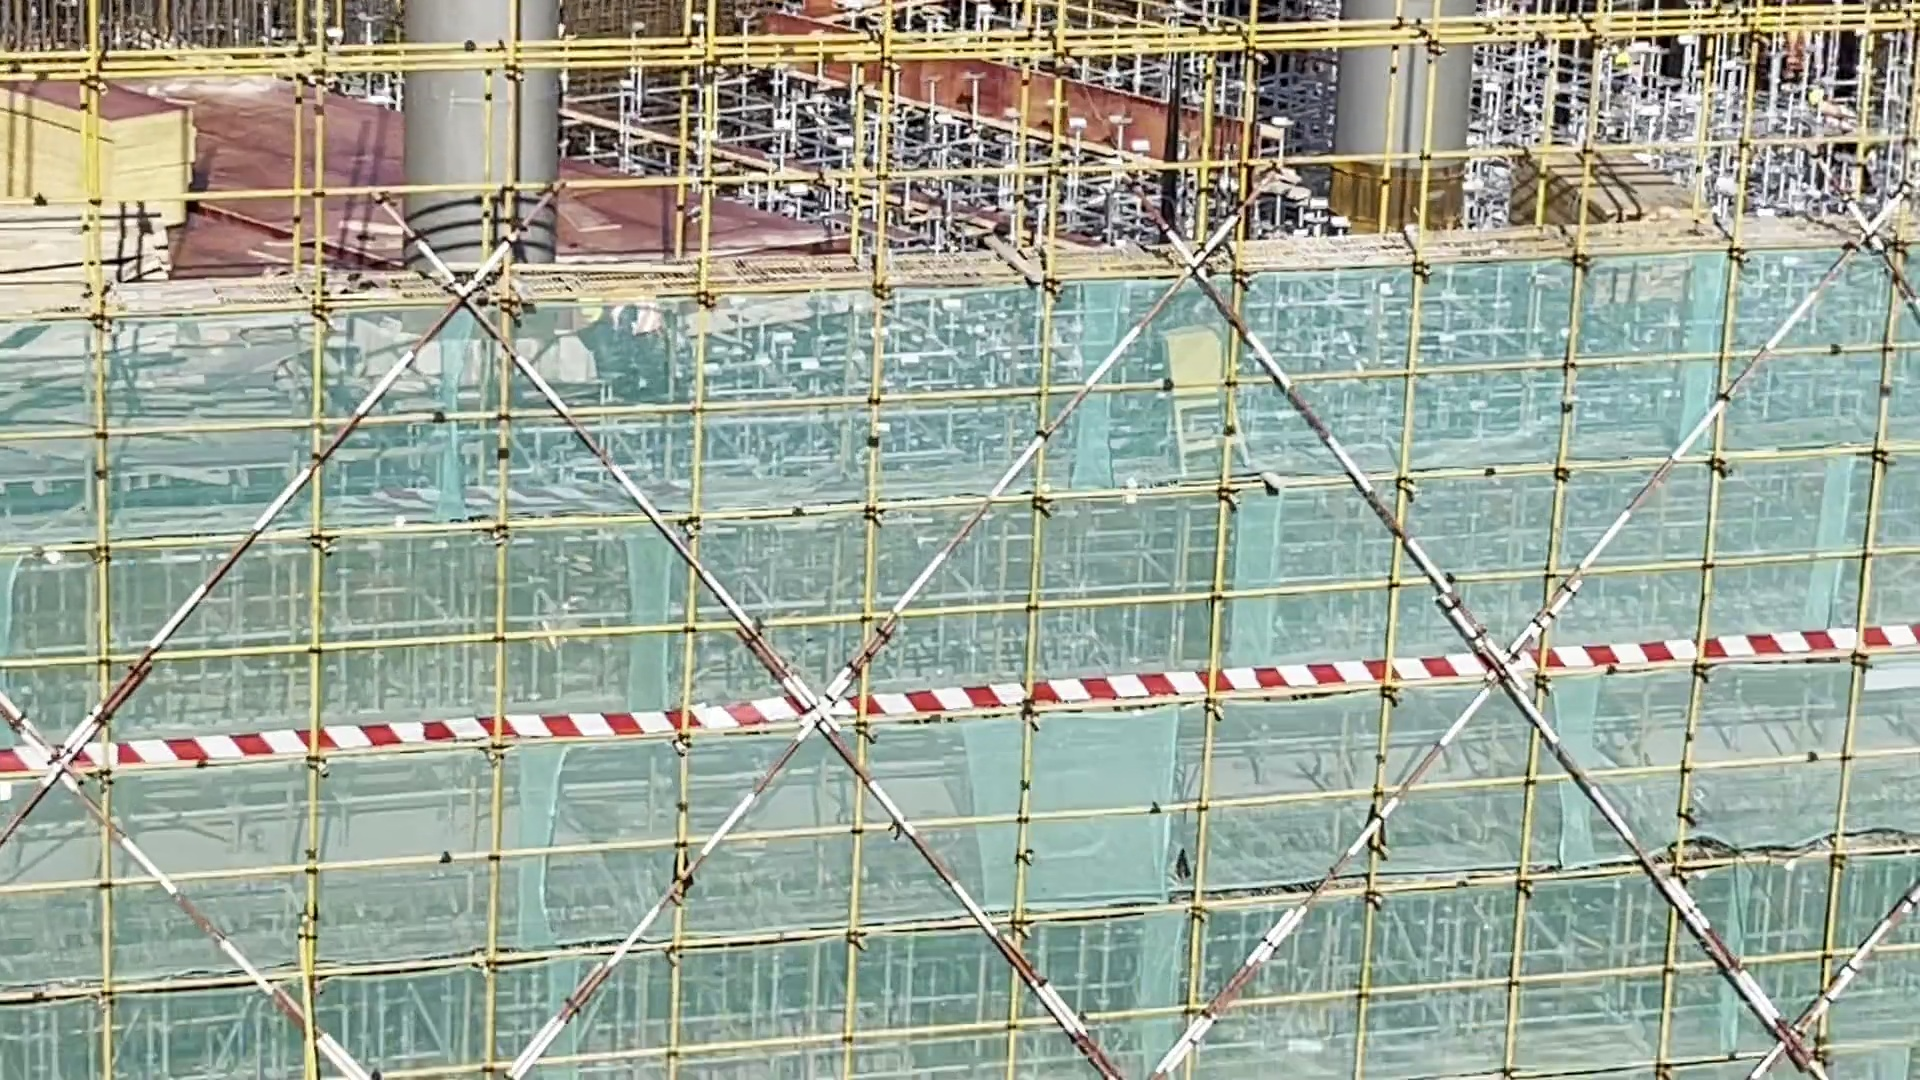ebox: (1155, 327, 1255, 454)
